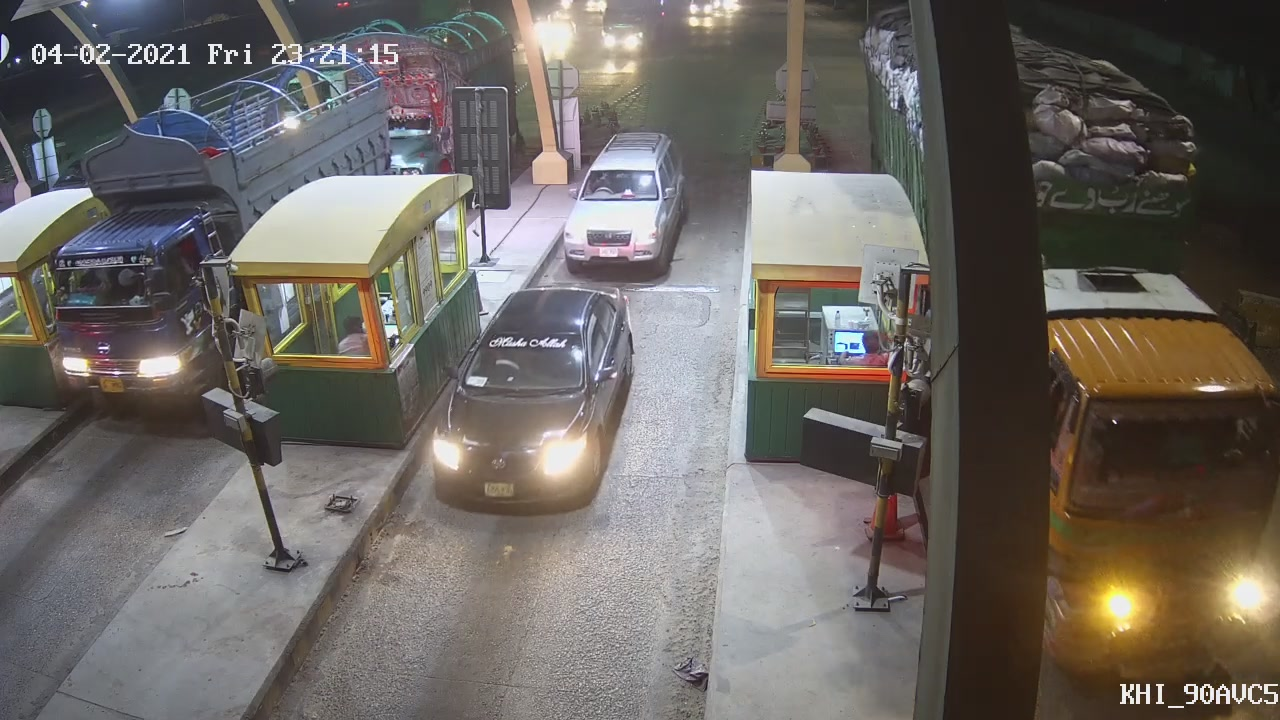F1: (418, 279, 640, 516), (552, 125, 691, 275)
